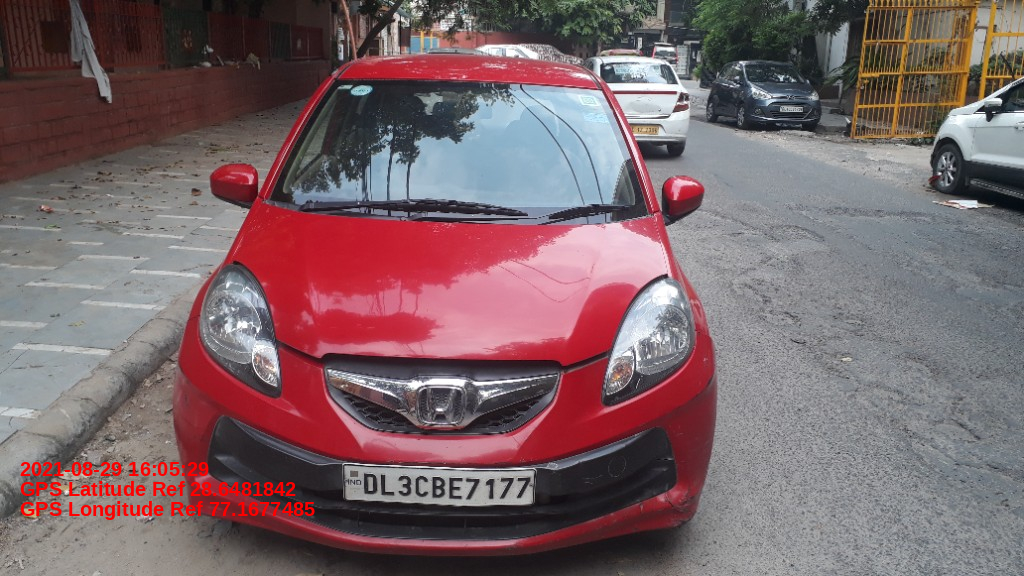Cracked: (659, 481, 701, 529)
Pressed: (655, 454, 671, 466)
Scratched: (691, 298, 709, 349), (583, 472, 607, 491), (702, 368, 718, 392), (543, 460, 560, 473)
